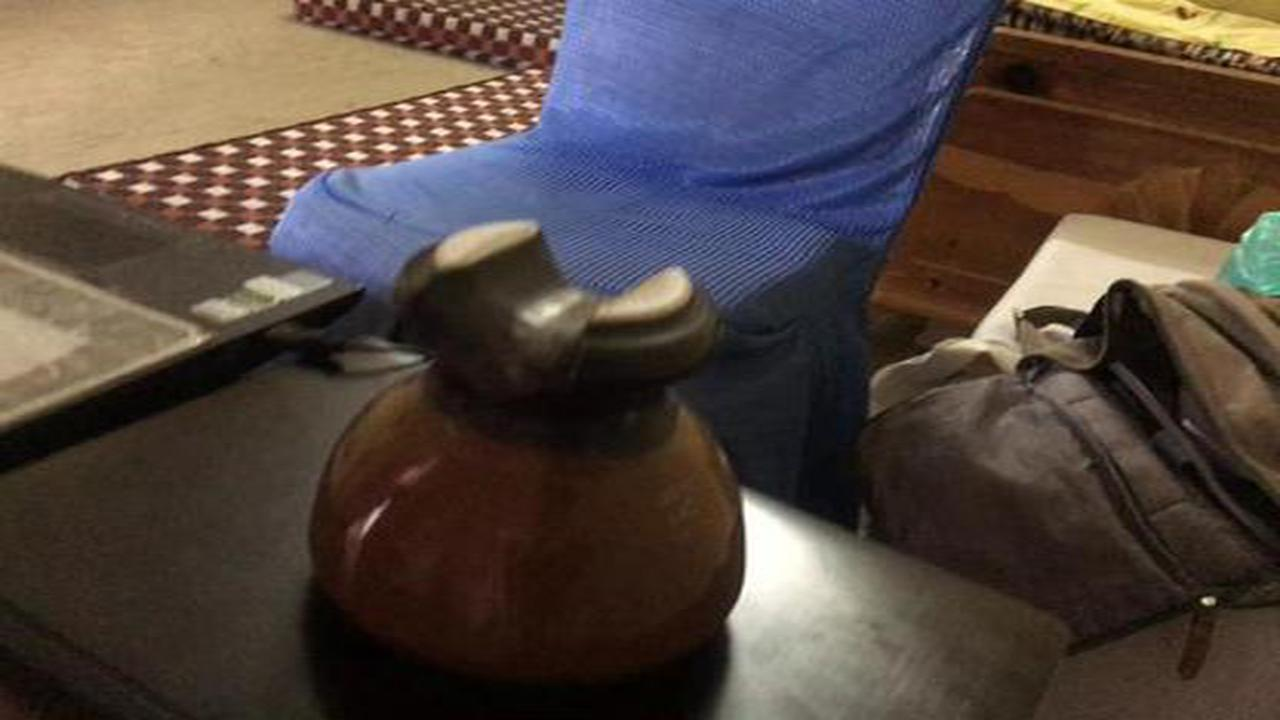insulator_pin: (281, 206, 767, 696)
